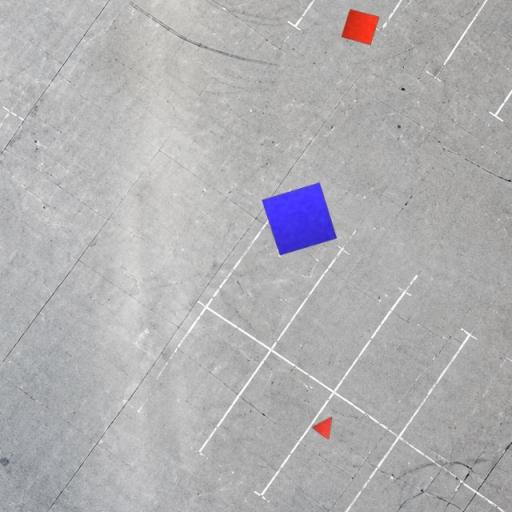BLUE_SQUARE: (262, 182, 338, 256)
RED_SQUARE: (341, 8, 380, 46)
